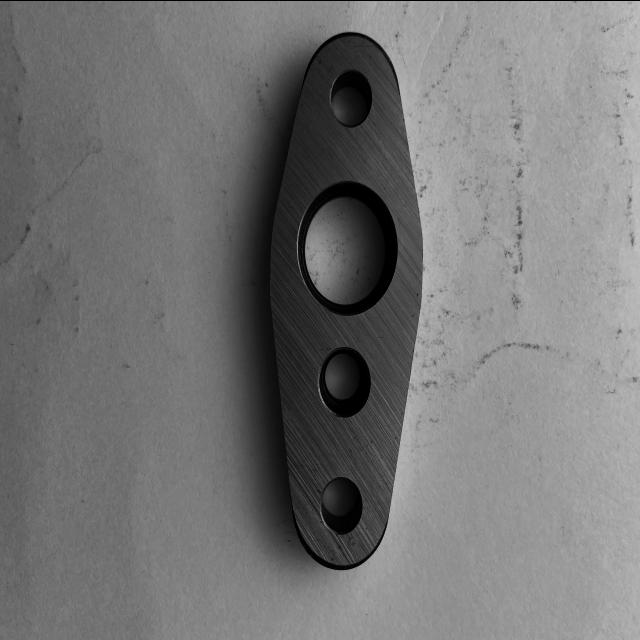chap: (416, 290, 419, 298)
lines: (317, 344, 334, 352), (376, 333, 388, 339)
